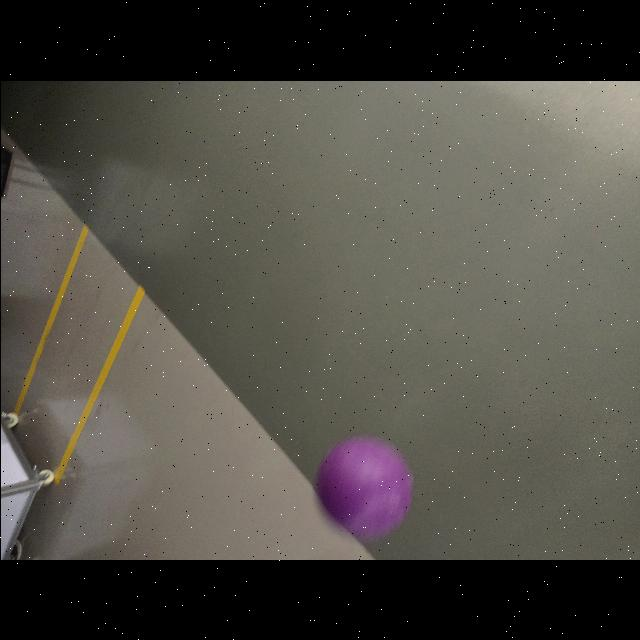P: (312, 435, 414, 541)
